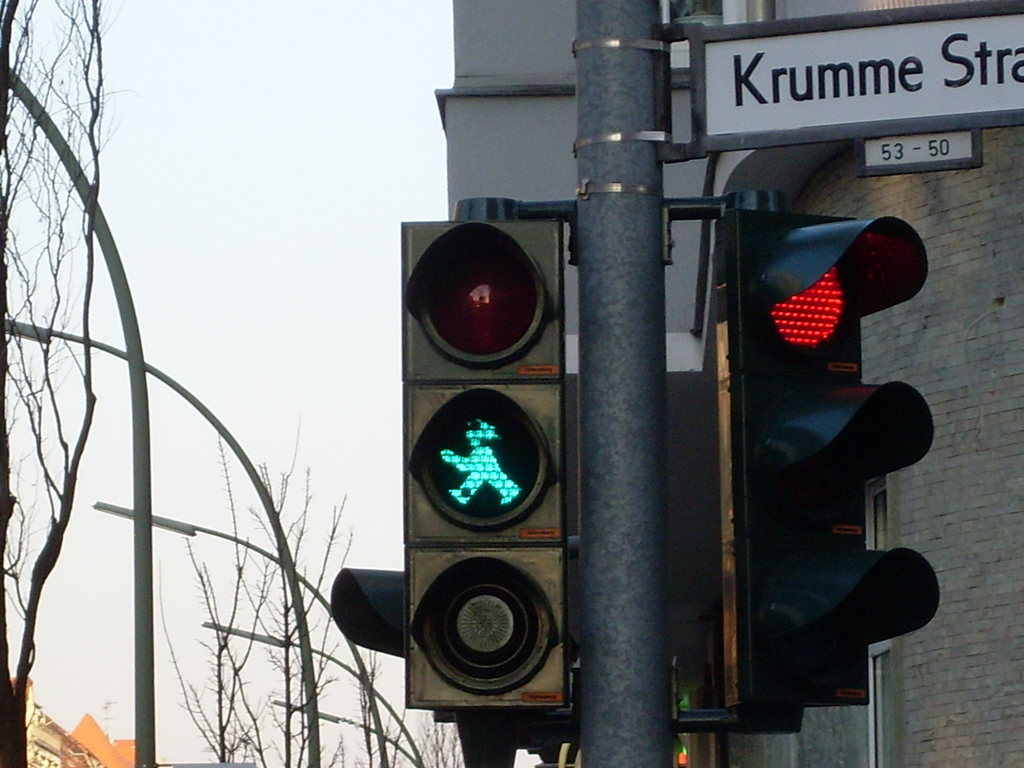red_light: (744, 223, 938, 695)
